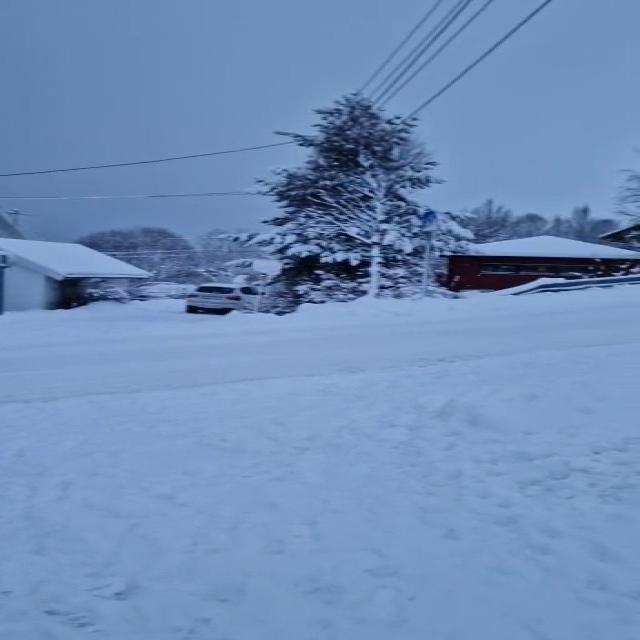path: (0, 297, 640, 405)
